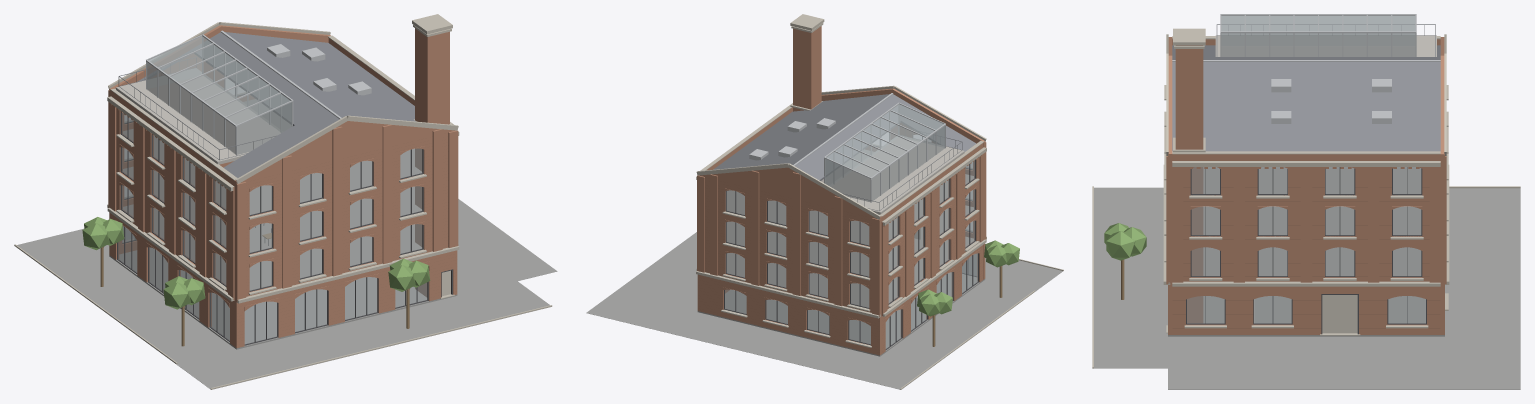
The model's file is clay-arched-mill-mixed-use-clay-v004.glb.
3 views of the same model, side by side, from view 1: azimuth 30°, elevation 25°; view 2: azimuth 150°, elevation 25°; view 3: azimuth 270°, elevation 25° (orthographic). The views are drawn at different scales.
Visible parts, largest first — view 1: CLAY_WALL, CLAY_FOUNDATION, CLAY_GLASS, CLAY_FLOOR, CLAY_ROOF, CLAY_STONE, CLAY_TRIM, CLAY_METAL, CLAY_PLANTING, CLAY_CONCRETE, CLAY_HARDWARE, CLAY_TIMBER; view 2: CLAY_WALL, CLAY_FOUNDATION, CLAY_GLASS, CLAY_FLOOR, CLAY_ROOF, CLAY_STONE, CLAY_TRIM, CLAY_METAL, CLAY_CONCRETE, CLAY_PLANTING, CLAY_HARDWARE; view 3: CLAY_FOUNDATION, CLAY_WALL, CLAY_ROOF, CLAY_GLASS, CLAY_FLOOR, CLAY_STONE, CLAY_METAL, CLAY_TRIM, CLAY_CONCRETE, CLAY_PALE, CLAY_PLANTING, CLAY_JOINT.
Part boxes in pixels (x1,y1,x2,y2): CLAY_WALL: [108, 25, 458, 348]; CLAY_FOUNDATION: [17, 199, 557, 389]; CLAY_GLASS: [118, 36, 427, 344]; CLAY_FLOOR: [123, 76, 422, 290]; CLAY_ROOF: [137, 32, 415, 177]; CLAY_STONE: [14, 14, 552, 389]; CLAY_TRIM: [117, 93, 452, 345]; CLAY_METAL: [146, 30, 371, 155]; CLAY_PLANTING: [82, 217, 430, 309]; CLAY_CONCRETE: [116, 68, 279, 164]; CLAY_HARDWARE: [118, 59, 277, 160]; CLAY_TIMBER: [100, 233, 410, 346]; CLAY_WALL: [697, 26, 986, 355]; CLAY_FOUNDATION: [586, 232, 1062, 389]; CLAY_GLASS: [725, 104, 977, 348]; CLAY_FLOOR: [726, 137, 973, 307]; CLAY_ROOF: [713, 94, 976, 180]; CLAY_STONE: [696, 14, 1063, 389]; CLAY_TRIM: [724, 137, 978, 349]; CLAY_METAL: [749, 93, 945, 202]; CLAY_CONCRETE: [830, 136, 964, 214]; CLAY_PLANTING: [917, 240, 1019, 316]; CLAY_HARDWARE: [842, 137, 962, 210]; CLAY_FOUNDATION: [1094, 187, 1520, 389]; CLAY_WALL: [1166, 37, 1446, 334]; CLAY_ROOF: [1172, 45, 1440, 151]; CLAY_GLASS: [1187, 16, 1425, 323]; CLAY_FLOOR: [1203, 46, 1421, 275]; CLAY_STONE: [1092, 28, 1520, 368]; CLAY_METAL: [1172, 14, 1440, 123]; CLAY_TRIM: [1186, 167, 1426, 334]; CLAY_CONCRETE: [1215, 35, 1436, 56]; CLAY_PALE: [1322, 295, 1357, 333]; CLAY_PLANTING: [1104, 223, 1146, 260]; CLAY_JOINT: [1173, 187, 1439, 328].
Bounding box in the file's own units: 38 × 25.7 × 34.
